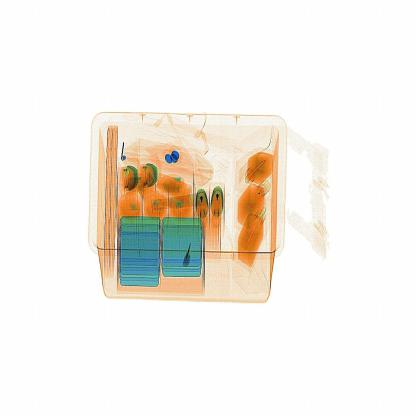wrench: (172, 237, 200, 275)
